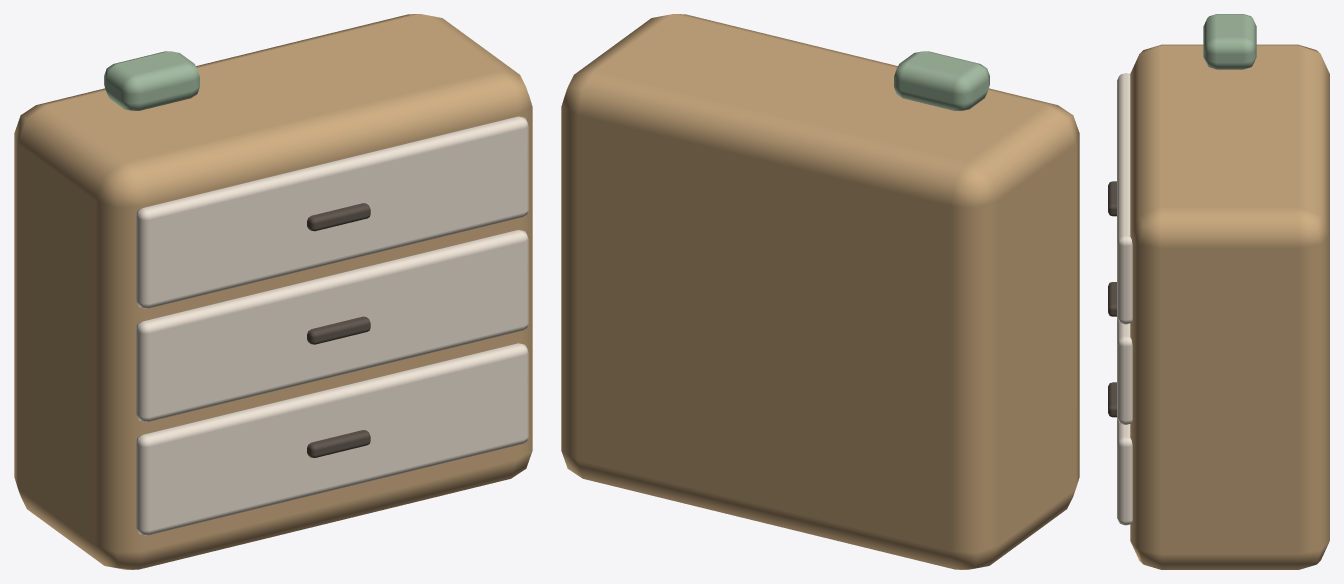
Rendered from cabinet.glb.
The picture shows the model from 3 angles, left to right: view 1: azimuth 30°, elevation 25°; view 2: azimuth 150°, elevation 25°; view 3: azimuth 270°, elevation 25°; orthographic projection. The views are drawn at different scales.
Bounding box in the file's own units: 1 × 1.02 × 0.5.
